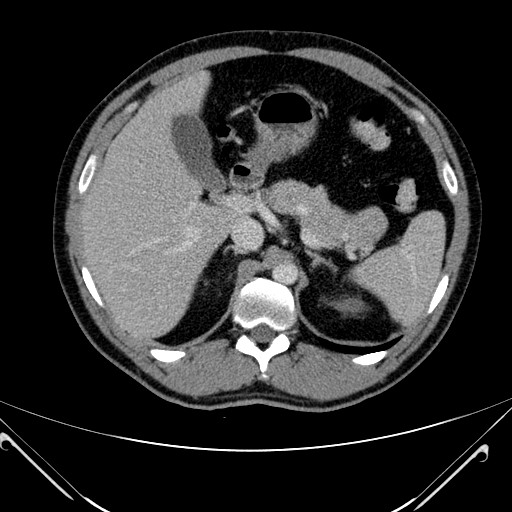vesicula: (169, 111, 228, 196)
